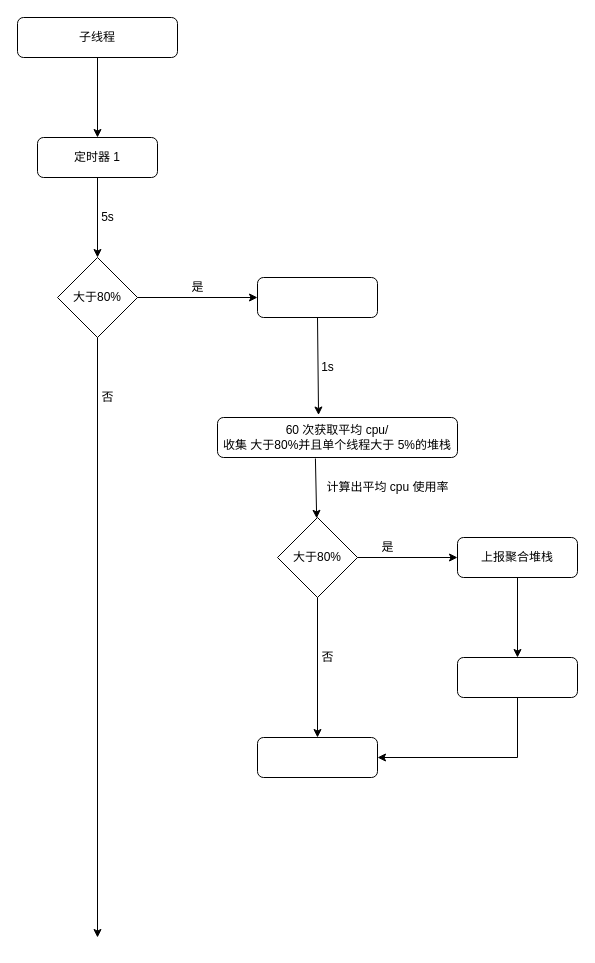
Some shapes in this 595 by 963 pixel diagram are drawn without their labels. The shapes that lost their labels are listed below. From the top down, each one's centre as x and y in pixels, then its label:
At (317,297): "定时器 2".
At (517,677): "等待 2s".
At (317,757): "停止定时器 2".
